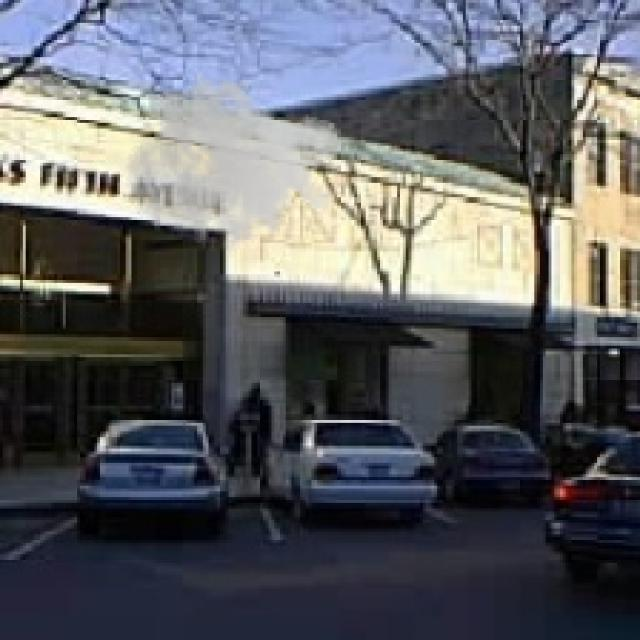smoke: (126, 66, 343, 266)
